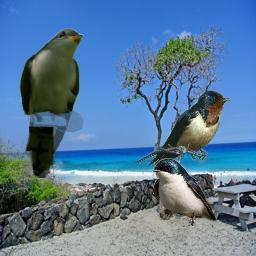Cuckoo: (19, 28, 84, 178)
Swallow: (134, 90, 230, 166), (153, 158, 217, 226)
